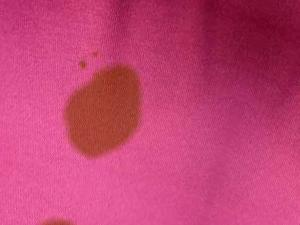stain: (63, 62, 147, 160), (89, 48, 104, 60), (75, 59, 89, 71)
